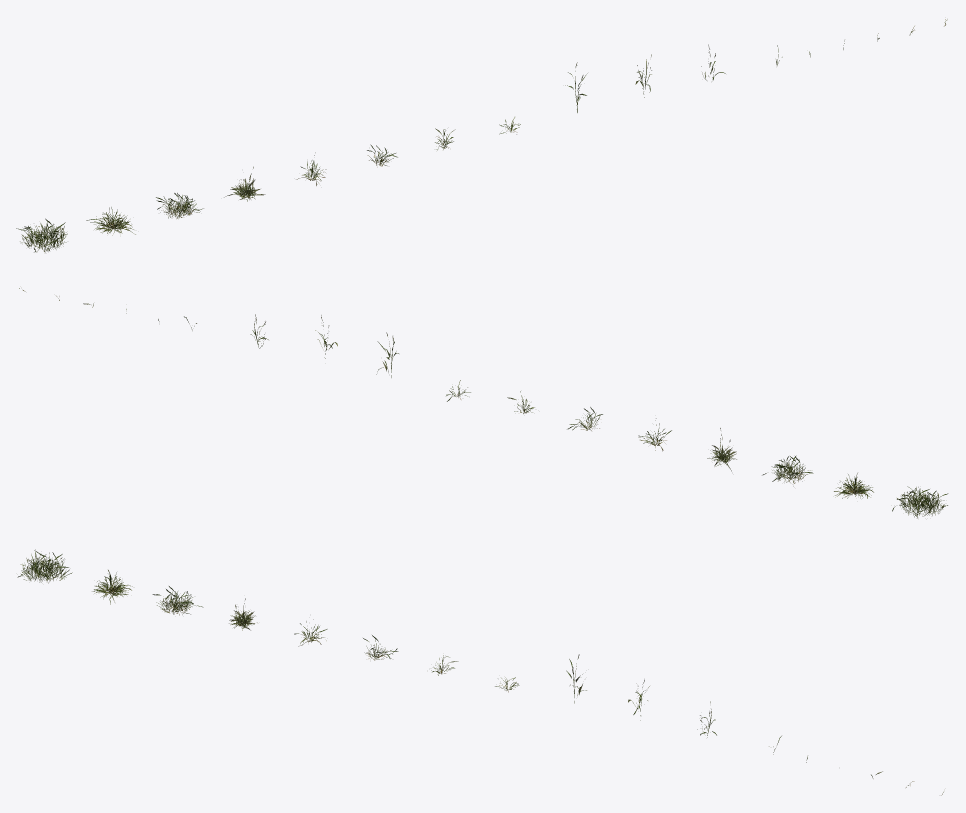
Rendered from grass_medium_01.glb.
The picture shows the model from 3 angles, top to bottom: view 1: azimuth 30°, elevation 25°; view 2: azimuth 150°, elevation 25°; view 3: azimuth 330°, elevation 25°; orthographic projection.
Parts seen in each view (by area): view 1: grass_medium_01_large_a_LOD0, grass_medium_01_large_c_LOD0; view 2: grass_medium_01_large_a_LOD0, grass_medium_01_large_c_LOD0; view 3: grass_medium_01_large_a_LOD0.
Boxes of the visible parts, bbox=[...] form: grass_medium_01_large_a_LOD0: bbox=[16, 218, 67, 252]; grass_medium_01_large_c_LOD0: bbox=[156, 193, 203, 218]; grass_medium_01_large_a_LOD0: bbox=[892, 486, 948, 518]; grass_medium_01_large_c_LOD0: bbox=[762, 455, 813, 486]; grass_medium_01_large_a_LOD0: bbox=[17, 549, 72, 583].
Bounding box in the file's own units: 5.6 × 0.3389 × 0.3266.
Materials: 1 (1 with a texture image).
